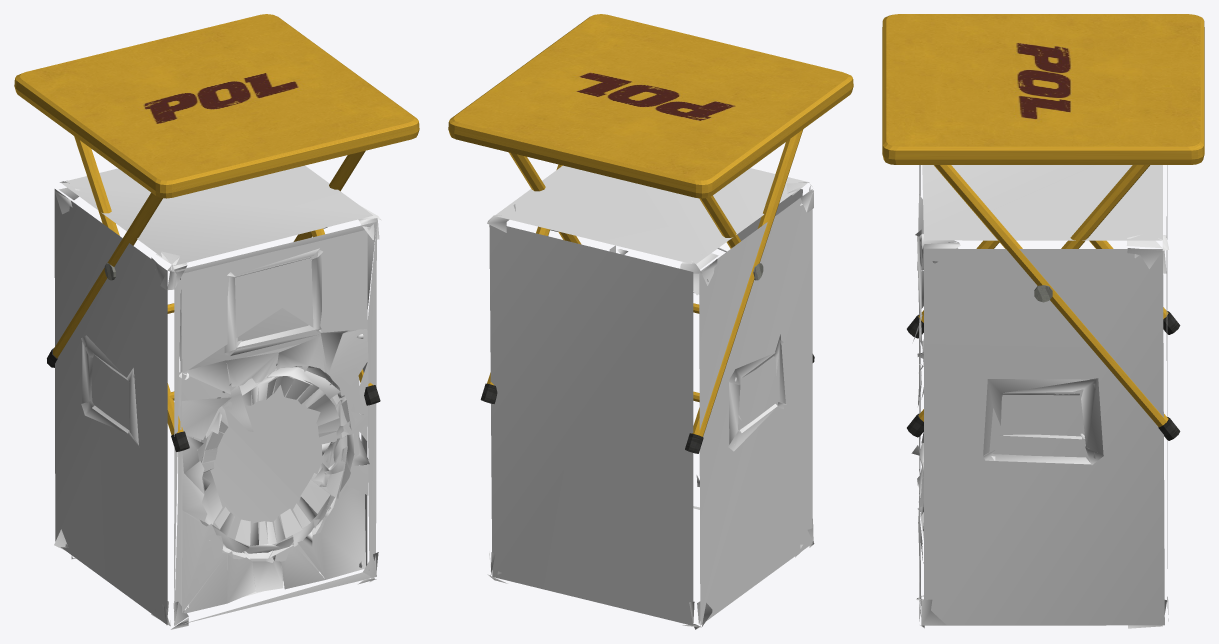
The model's file is bar-galpao.glb.
3 views of the same model, side by side, from view 1: azimuth 30°, elevation 25°; view 2: azimuth 150°, elevation 25°; view 3: azimuth 270°, elevation 25° (orthographic). The views are drawn at different scales.
Visible parts, largest first — view 1: paredao_galpao, mesa_pol; view 2: paredao_galpao, mesa_pol; view 3: paredao_galpao, mesa_pol.
Part boxes in pixels (left/top/right/bottom): paredao_galpao: left=54, top=165, right=381, bottom=629; mesa_pol: left=14, top=14, right=419, bottom=451; paredao_galpao: left=487, top=165, right=814, bottom=629; mesa_pol: left=448, top=14, right=853, bottom=453; paredao_galpao: left=911, top=165, right=1169, bottom=628; mesa_pol: left=882, top=14, right=1204, bottom=440.
Bounding box in the file's own units: 0.71 × 1.21 × 0.71.
Materials: 1 (1 with a texture image).
